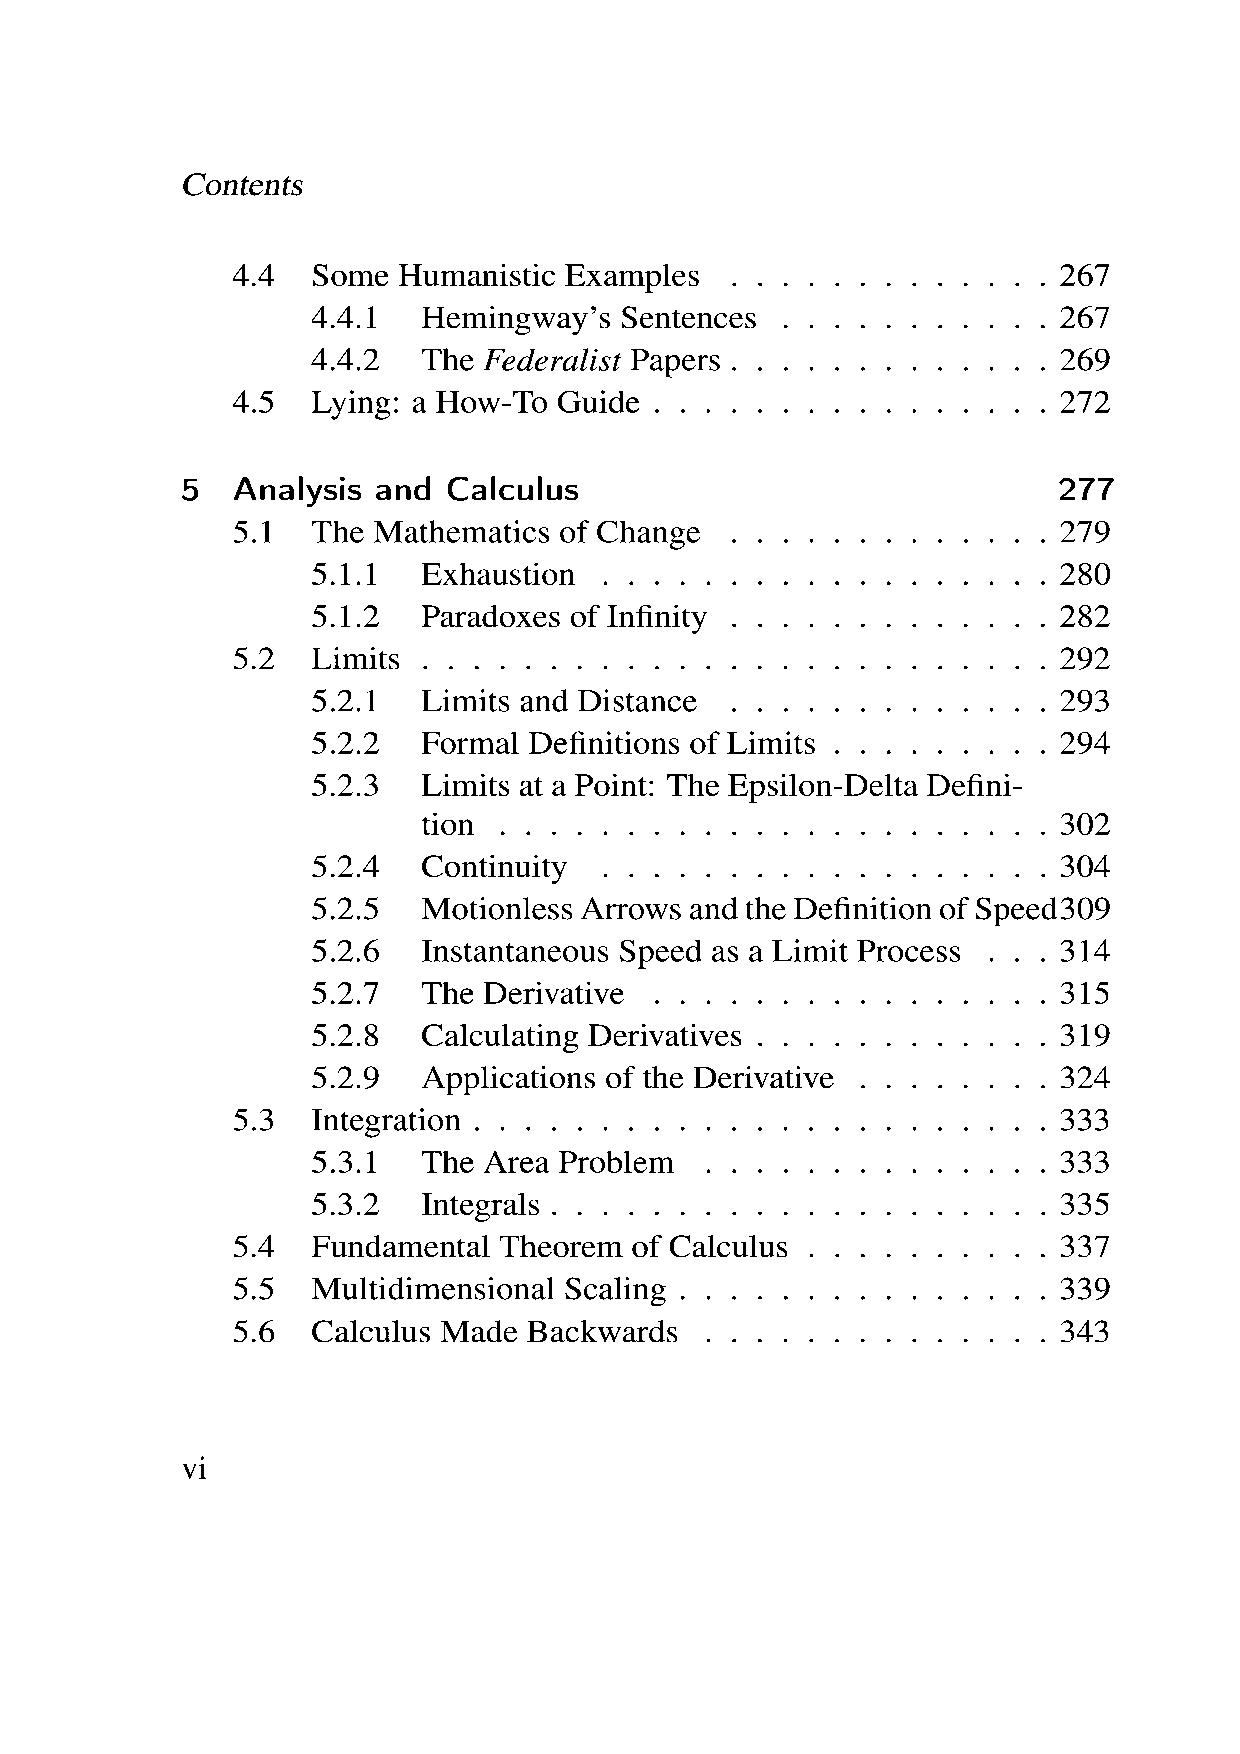TOC_chapter: (306, 764, 1028, 843), (309, 891, 1060, 925), (221, 246, 710, 294), (311, 935, 969, 969), (209, 513, 699, 556), (306, 297, 770, 340), (305, 1057, 837, 1094), (305, 723, 821, 758), (170, 466, 590, 507), (231, 1271, 667, 1307), (231, 1235, 793, 1261), (309, 1017, 747, 1051), (228, 1314, 683, 1346), (305, 603, 709, 639), (225, 386, 640, 421), (313, 344, 723, 378), (301, 683, 701, 717), (313, 1143, 679, 1180), (309, 972, 628, 1007), (297, 564, 586, 596), (309, 1184, 544, 1223), (311, 848, 568, 882), (234, 1096, 466, 1133), (208, 635, 404, 676)
TOC_pagenumber: (1052, 293, 1118, 336), (1052, 464, 1117, 507), (1049, 794, 1114, 836), (1052, 1008, 1122, 1045), (1053, 338, 1118, 376), (1049, 972, 1117, 1007), (1052, 250, 1113, 287), (1052, 515, 1117, 550), (1059, 1051, 1111, 1092), (1053, 596, 1111, 633), (1059, 841, 1111, 882), (1059, 1314, 1123, 1346), (1059, 723, 1117, 758), (1056, 1225, 1115, 1259), (1056, 1266, 1113, 1300), (1056, 641, 1113, 676), (1062, 933, 1115, 968), (1052, 1189, 1121, 1216), (1062, 1141, 1111, 1177), (1052, 560, 1111, 589), (1056, 683, 1113, 713), (1062, 1102, 1115, 1131), (1059, 384, 1113, 413), (1062, 888, 1111, 918)
chapter: (173, 166, 315, 205)
content_pagenumber: (162, 1440, 213, 1490)
